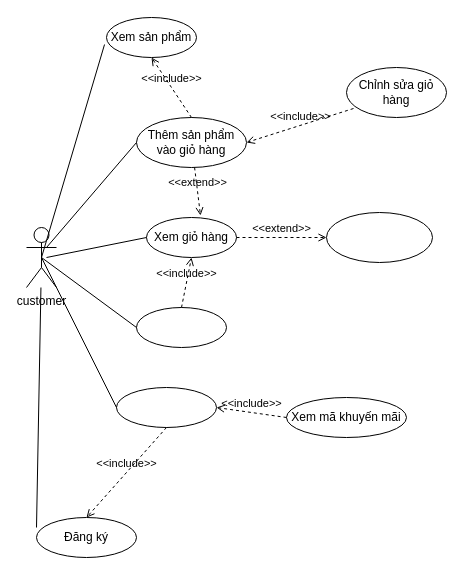
Some shapes in this 464 by 575 pixel diagram are drawn without their labels. Here are the shapes that lost their labels. From the top down, the centre of each, then its label:
At (x=379, y=237): "Thêm mã khuyến mãi".
At (x=181, y=327): "Đặt hàng".
At (x=166, y=407): "Đăng nhập".
